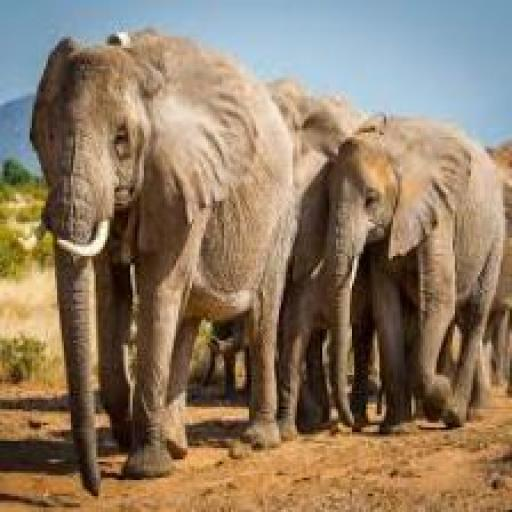Elephant: (23, 23, 305, 507), (267, 39, 512, 484)
